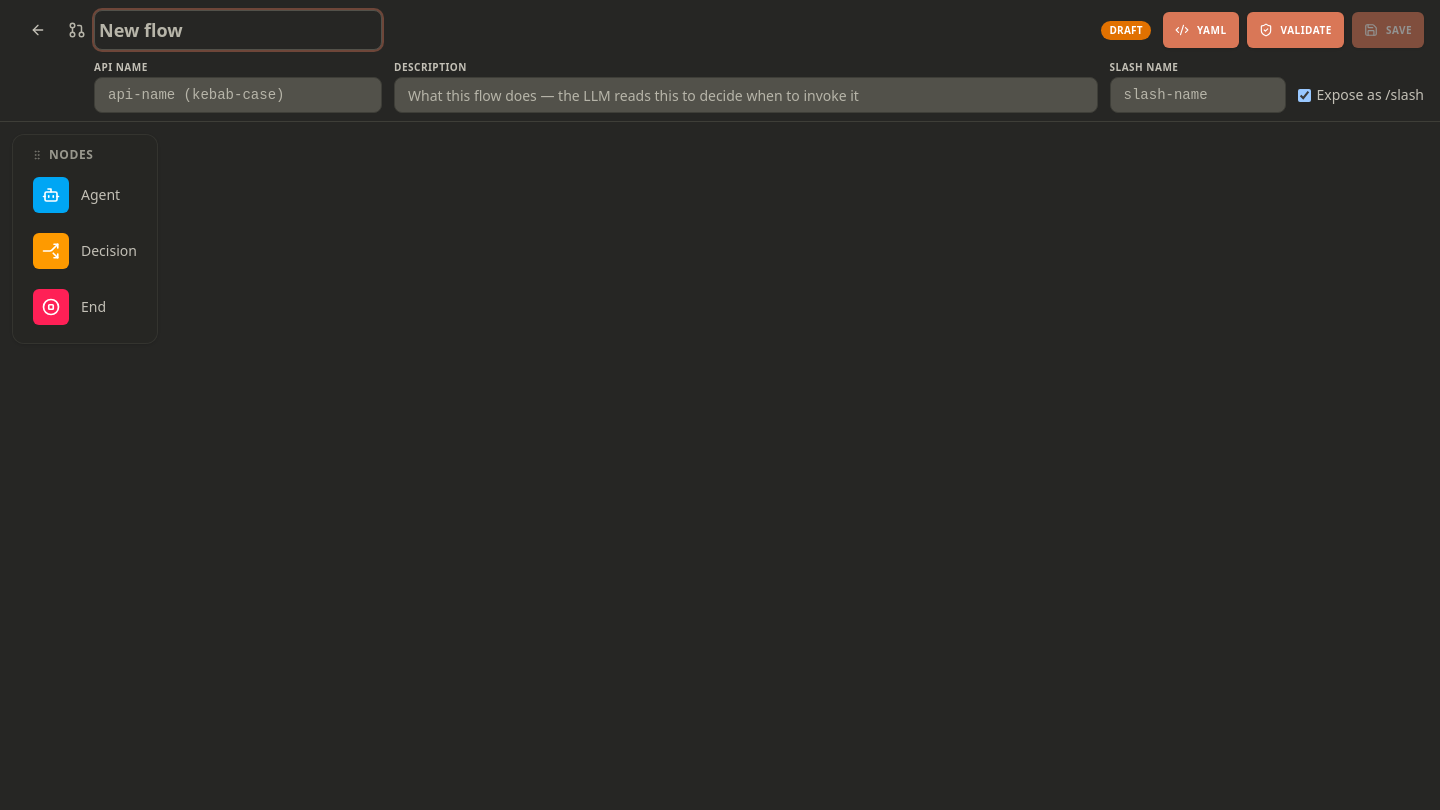
it: FlowEditorView (shell) › clicking the palette Agent entry adds a node and opens the node panel
Click the button "Agent": (85, 195) [23,169,147,221]
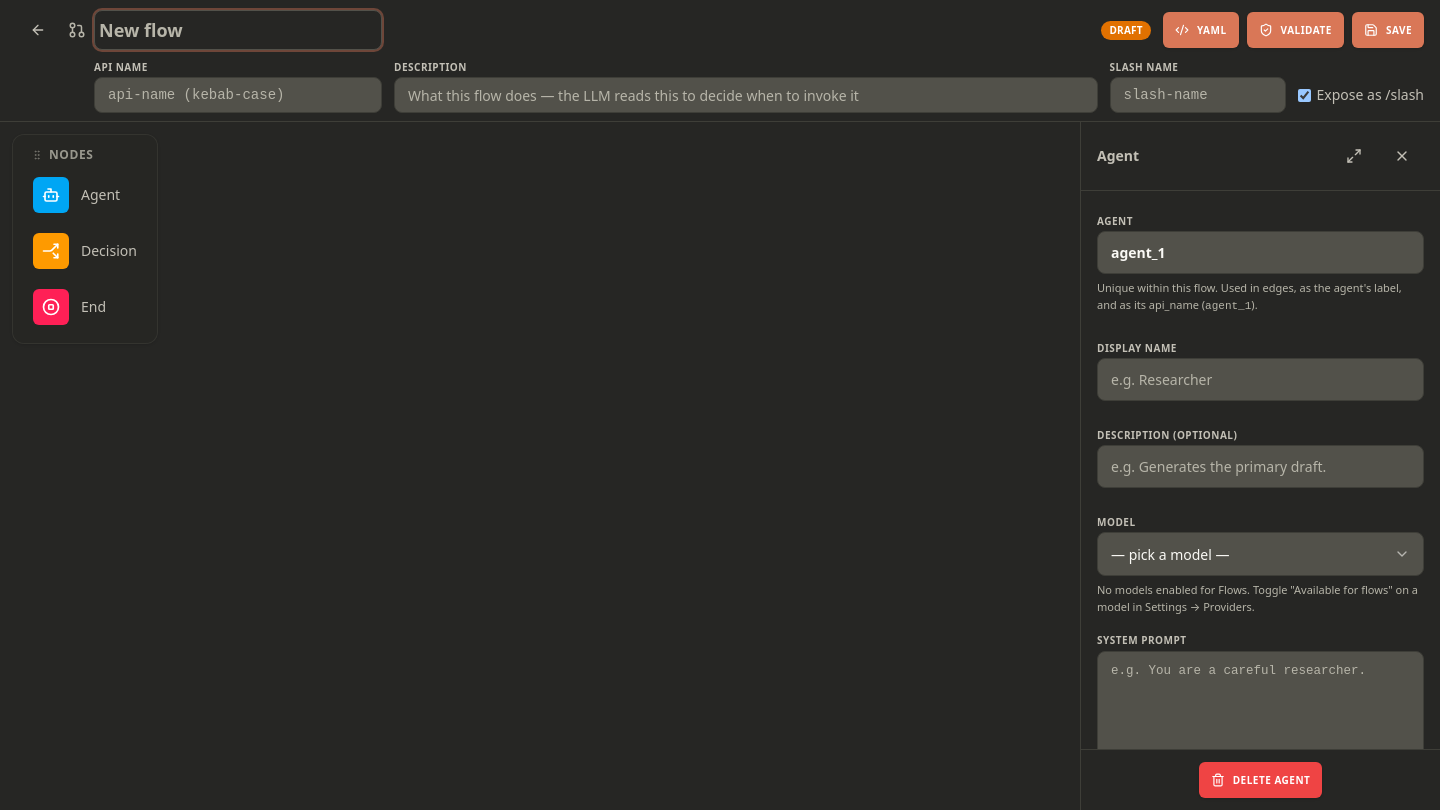
Now the field labelled "Agent" is shown, box [1097,231,1424,274]
